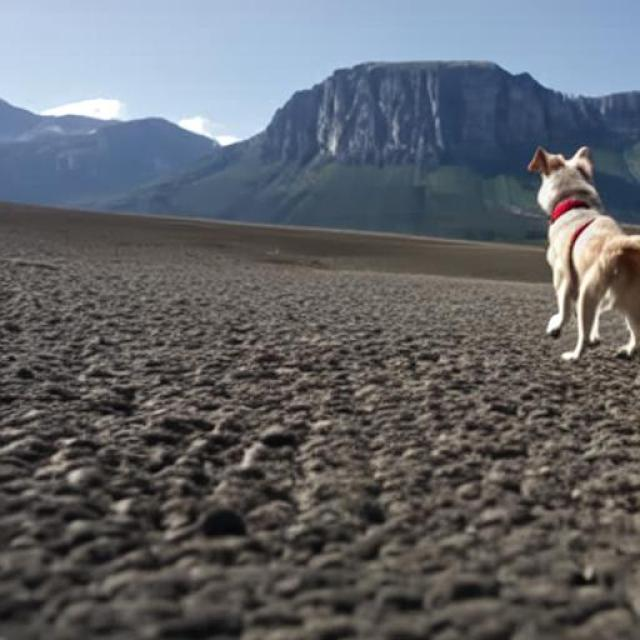Dog: (525, 143, 640, 363)
